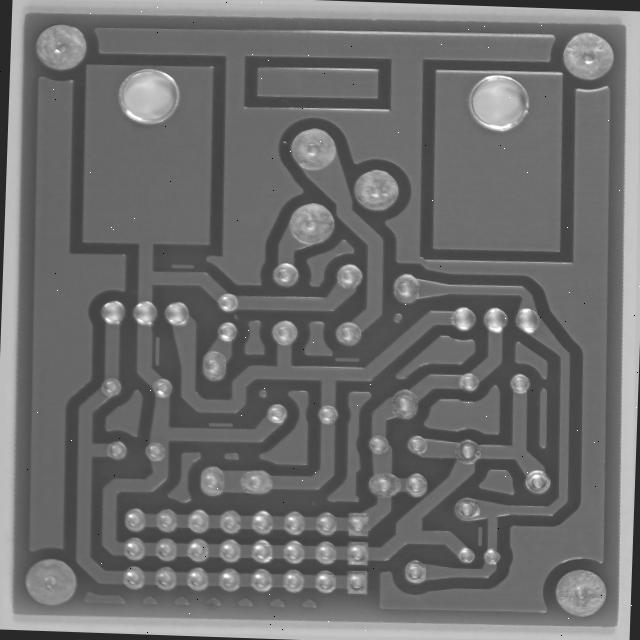spurious_copper: (196, 415, 236, 433), (329, 351, 366, 370), (141, 330, 160, 367), (468, 528, 487, 557), (164, 254, 197, 270)
